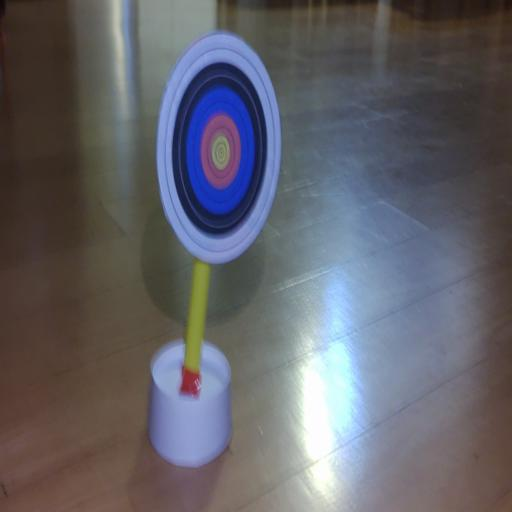target: (156, 33, 280, 264)
